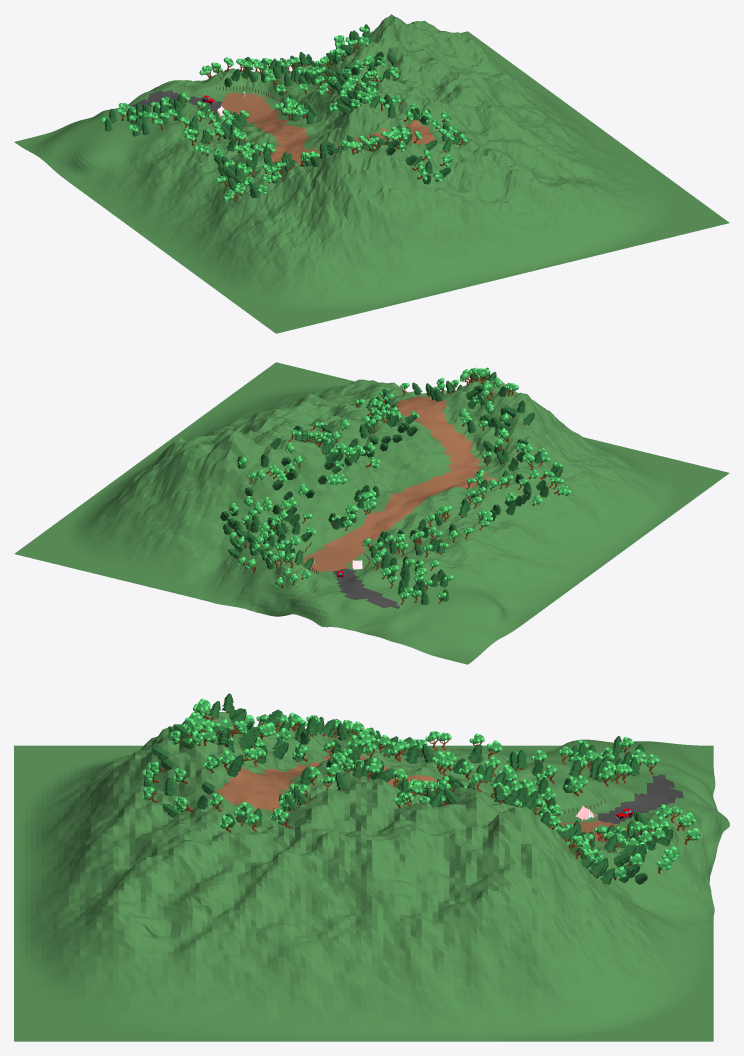
Rendered from mountain.glb.
3 renders of one model, top to bottom at view 1: azimuth 30°, elevation 25°; view 2: azimuth 150°, elevation 25°; view 3: azimuth 270°, elevation 25°, orthographic. The views are drawn at different scales.
Parts seen in each view (by area): view 1: map; view 2: map; view 3: map.
Boxes of the visible parts, x1,y1,x2,y2 form: map: (14, 14, 729, 333); map: (14, 362, 729, 664); map: (14, 708, 729, 1041).
Bounding box in the file's own units: 20.01 × 4.68 × 20.46.
